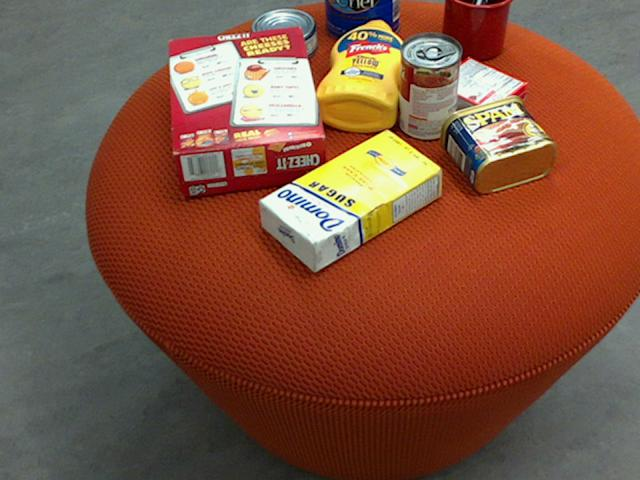cracker_box: (166, 24, 326, 194)
gelatin_box: (432, 58, 527, 127)
large_marker: (455, 0, 485, 52)
master_chef_can: (324, 0, 399, 41)
mug: (440, 0, 513, 59)
mustard_bottle: (313, 19, 407, 132)
potted_meat_can: (438, 95, 554, 193)
sugar_box: (258, 128, 443, 273)
tomato_soup_can: (398, 31, 461, 139)
tuna_fish_can: (248, 8, 315, 62)
